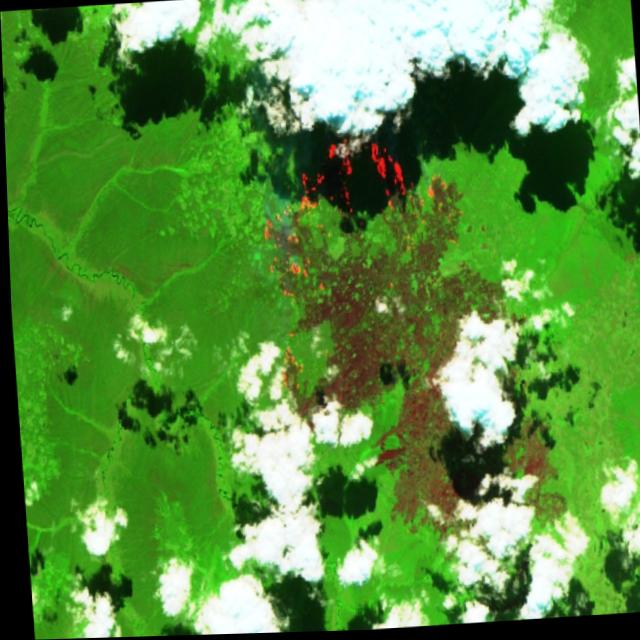fire: (249, 121, 476, 410)
